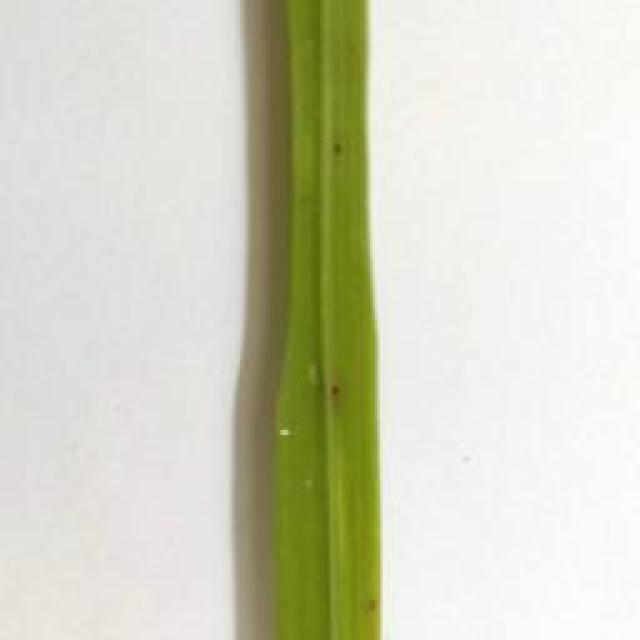Brown_Spot: (366, 586, 390, 613), (315, 386, 352, 402), (329, 134, 343, 167)
